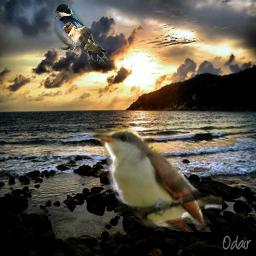Cuckoo: (87, 120, 222, 232)
Swallow: (53, 3, 110, 67), (62, 22, 107, 62)
